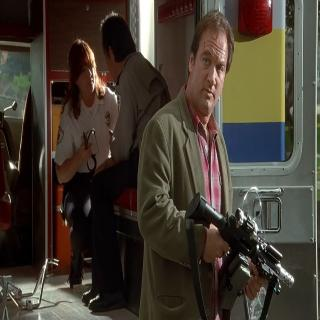gun: (190, 189, 292, 315)
